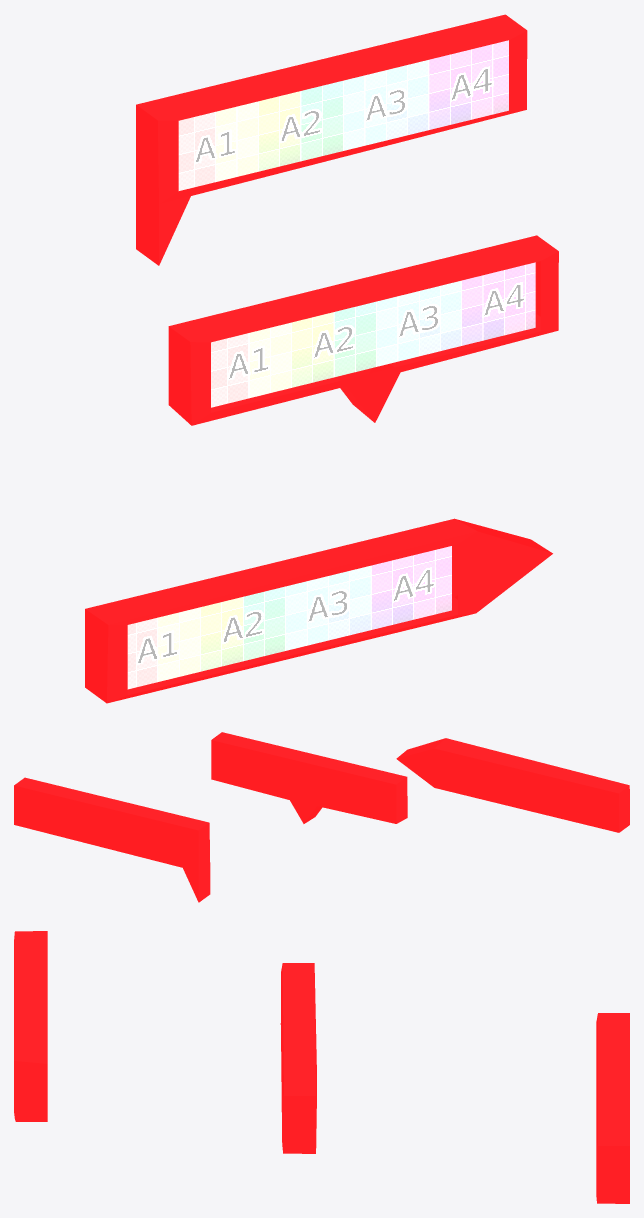
The model's file is hps4.glb.
The picture shows the model from 3 angles, top to bottom: view 1: azimuth 30°, elevation 25°; view 2: azimuth 150°, elevation 25°; view 3: azimuth 270°, elevation 25°; orthographic projection. The views are drawn at different scales.
Visible parts, largest first — view 1: cote_content, haut_content, dessus_content; view 2: cote_content, haut_content, dessus_content; view 3: dessus_content, cote_content, haut_content.
Part boxes in pixels (box(x1,y1,x2,y2)): cote_content: box(85, 518, 552, 703); haut_content: box(136, 14, 527, 265); dessus_content: box(168, 235, 558, 425); cote_content: box(396, 738, 629, 832); haut_content: box(14, 777, 210, 902); dessus_content: box(211, 732, 407, 823); dessus_content: box(280, 963, 316, 1153); cote_content: box(14, 931, 47, 1121); haut_content: box(596, 1013, 629, 1203).
Bounding box in the file's own units: 4.41 × 0.9576 × 3.92.
